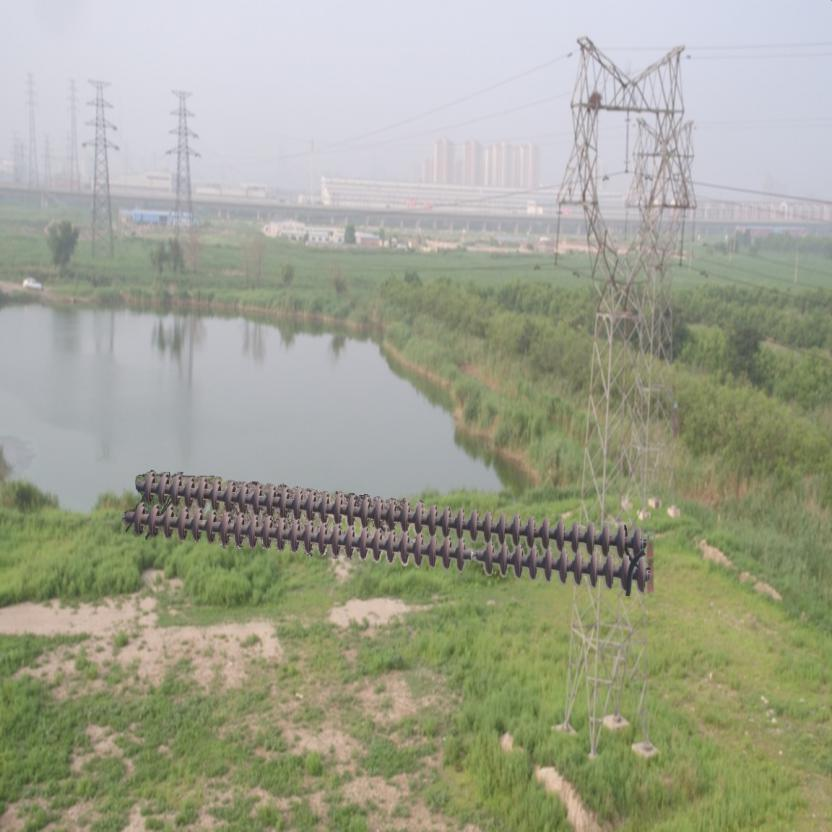defect: (449, 537, 498, 576)
